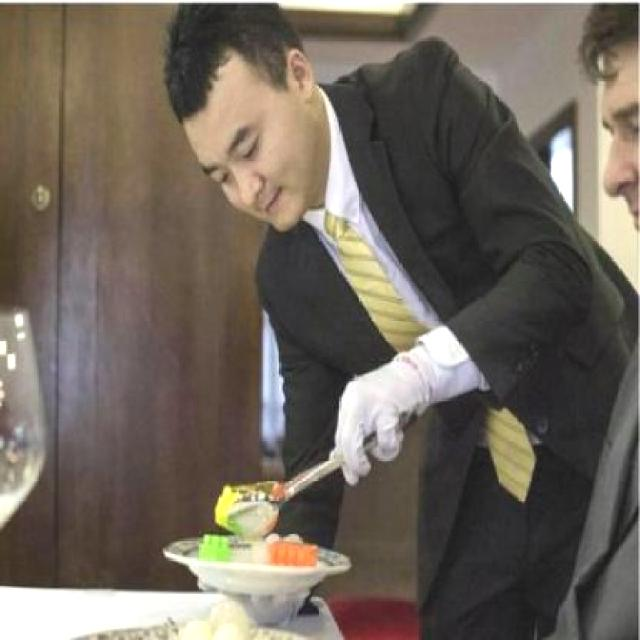face_nomask: (209, 64, 322, 228)
hand_glove: (329, 368, 422, 484), (191, 577, 314, 625)
head_nohelmet: (157, 6, 283, 114)
person: (101, 0, 617, 640)
